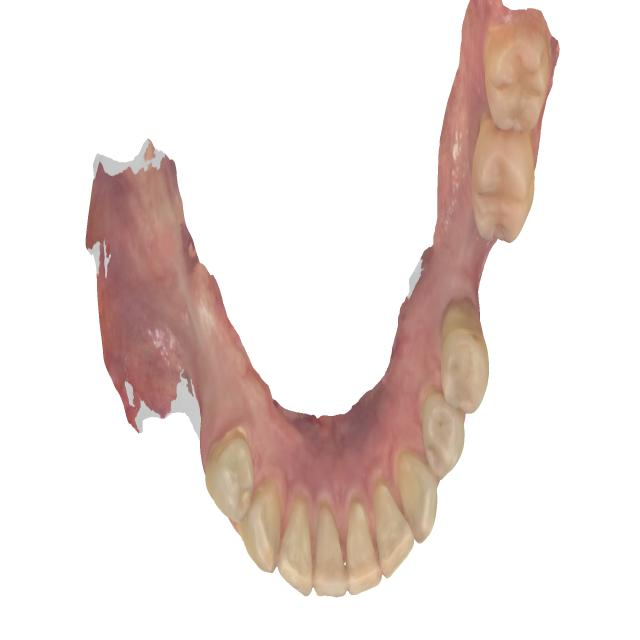tooth: (466, 110, 541, 252), (479, 17, 553, 144), (201, 403, 261, 536), (438, 288, 495, 428), (239, 453, 291, 593), (361, 471, 421, 583), (414, 381, 475, 485), (388, 436, 444, 547), (334, 493, 388, 603), (307, 479, 350, 614), (278, 476, 316, 614)
